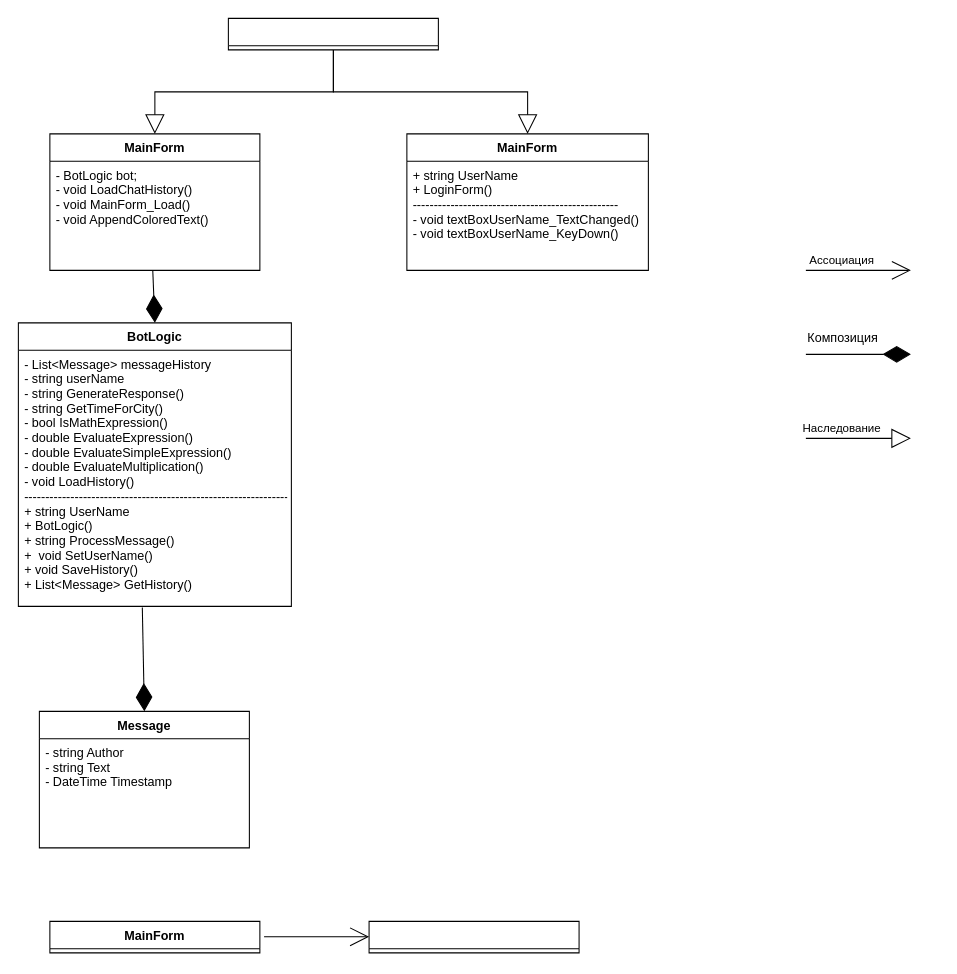
Some shapes in this 957 by 974 pixel diagram are drawn without their labels. Each missing label, with the centre of its shape:
"Form" belongs at point 332,33.
"LoginForm" belongs at point 473,936.
